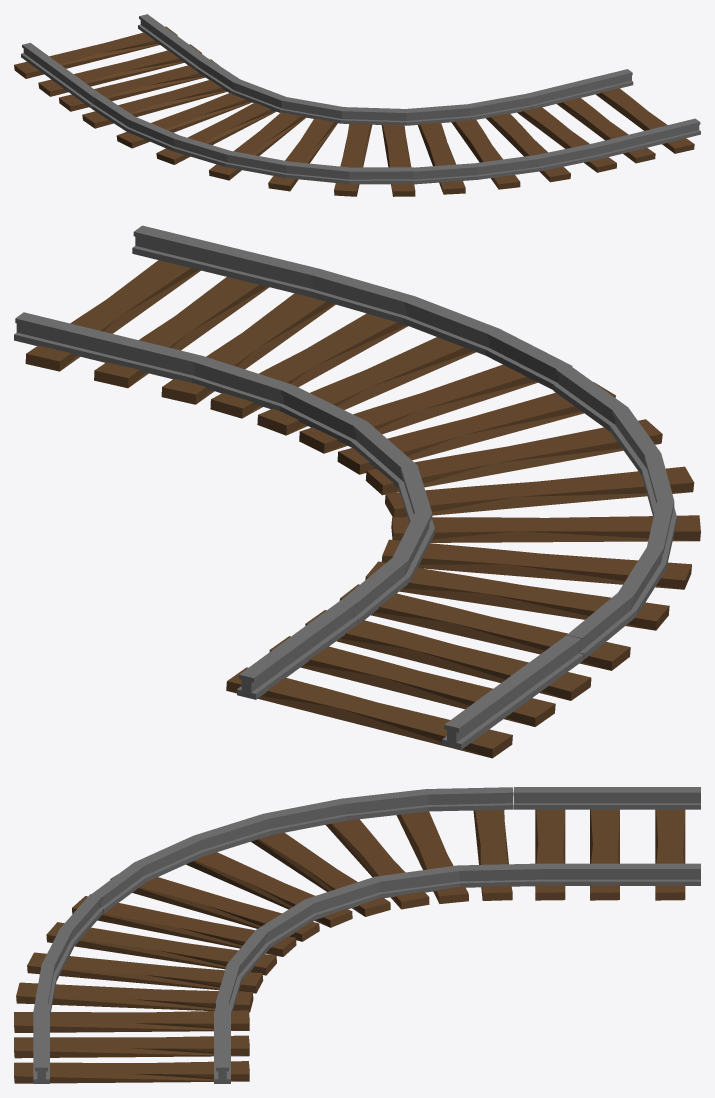
File: Mine_Rail_Track_Corner_Round_01.fbx
3 renders of one model, top to bottom at view 1: azimuth 30°, elevation 25°; view 2: azimuth 150°, elevation 25°; view 3: azimuth 270°, elevation 25°, orthographic. The views are drawn at different scales.
Parts seen in each view (by area): view 1: Model, Group27, Group10, Group24, Group28, Group26, Group8, Group1, Group15, Group12, Group3, Group30 (+22 smaller); view 2: Model, Group12, Group5, Group15, Group6, Group27, Group1, Group28, Group10, Group24, Group26, Group18 (+22 smaller); view 3: Model, Group3, Group30, Group7, Group23, Group17, Group25, Group18, Group6, Group5, Group12, Group15 (+22 smaller).
Boxes of the visible parts, x1,y1,x2,y2 form: Model: (21, 14, 205, 107); Group27: (14, 26, 177, 78); Group10: (38, 44, 201, 96); Group24: (59, 59, 219, 111); Group28: (82, 80, 226, 128); Group26: (594, 118, 700, 159); Group8: (527, 69, 633, 109); Group1: (116, 93, 252, 148); Group15: (156, 102, 276, 164); Group12: (209, 112, 305, 180); Group3: (557, 97, 655, 163); Group30: (596, 88, 694, 153); Model: (237, 600, 583, 749); Group12: (391, 515, 700, 542); Group5: (385, 466, 694, 517); Group15: (381, 539, 691, 589); Group6: (365, 419, 662, 495); Group27: (226, 667, 512, 758); Group1: (365, 561, 669, 630); Group28: (339, 584, 630, 670); Group10: (269, 636, 555, 726); Group24: (305, 610, 591, 700); Group26: (132, 225, 320, 296); Group18: (337, 382, 615, 474); Model: (514, 787, 700, 885); Group3: (14, 1035, 249, 1058); Group30: (14, 1061, 249, 1083); Group7: (14, 1010, 249, 1032); Group23: (16, 982, 253, 1012); Group17: (27, 952, 263, 993); Group25: (46, 922, 276, 975); Group18: (72, 896, 296, 956); Group6: (110, 874, 319, 941); Group5: (186, 852, 352, 927); Group12: (251, 832, 390, 916); Group15: (325, 819, 429, 909).
Size of the model in its own units: 1757 by 70.39 by 1762.
